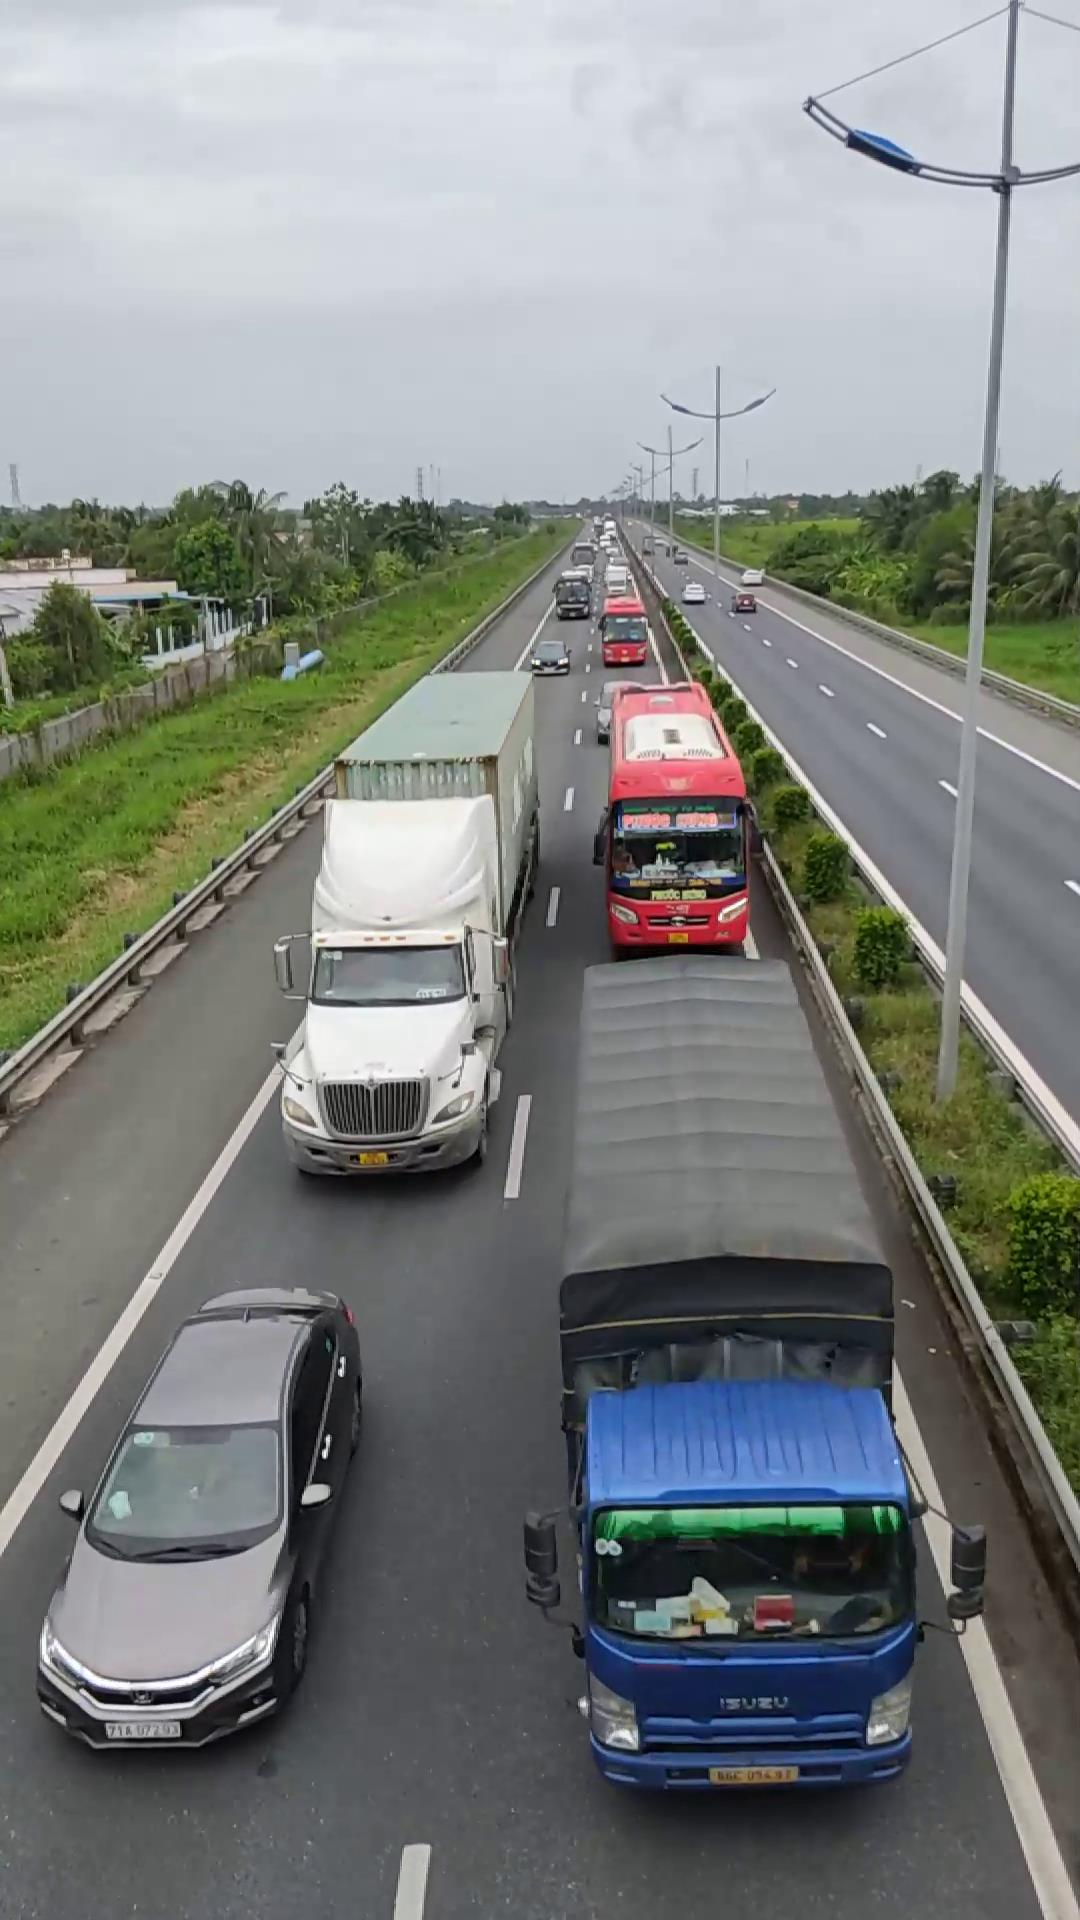bus: (596, 674, 758, 951)
car: (34, 1284, 367, 1749)
container: (280, 661, 541, 1183)
truck: (555, 957, 938, 1793)
